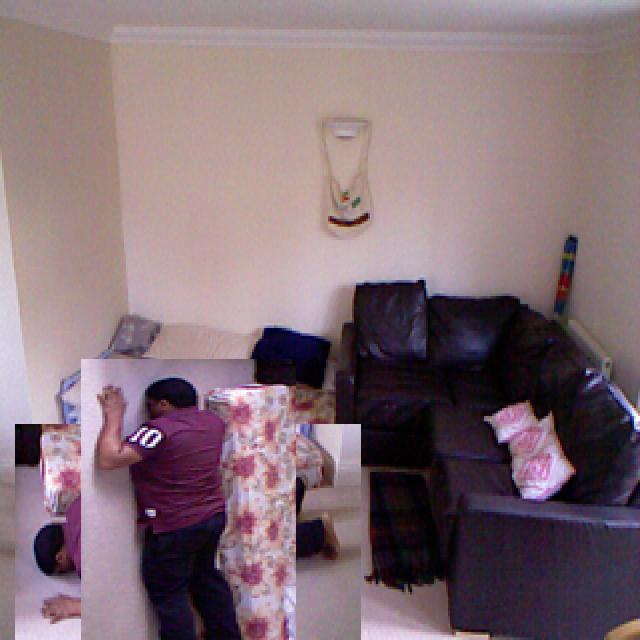Fall: (84, 360, 319, 640)
